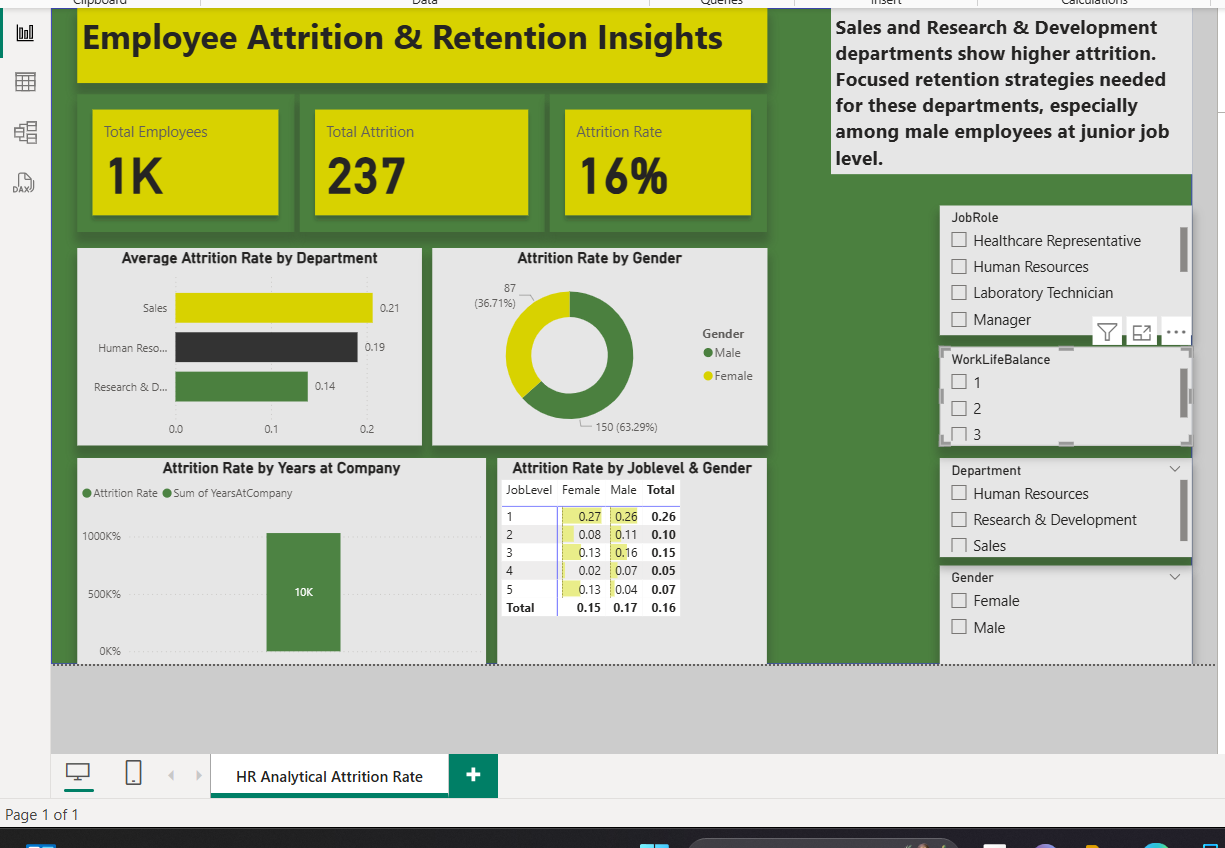

Layout of this report page (visuals, bound fields, positions):
{"tool":"powerbi","page":{"name":"HR Analytical Attrition Rate","canvas":[1280,720],"ordinal":0},"visuals":[{"type":"shape","box":[0,0,1252.8,720.4],"z":0},{"type":"textbox","box":[28.8,0,757.5,82.3],"z":1000},{"type":"cardVisual","fields":{"Data":["hranalytics.Total Employees"]},"box":[28.8,94.7,238.8,150.9],"z":2000},{"type":"slicer","fields":{"Values":["hranalytics.Gender"]},"box":[975.6,612,277.2,108.4],"z":3000},{"type":"slicer","fields":{"Values":["hranalytics.Department"]},"box":[975.6,494,277.2,108.4],"z":4000},{"type":"slicer","fields":{"Values":["hranalytics.WorkLifeBalance"]},"box":[975.6,371.9,277.2,108.4],"z":5000},{"type":"slicer","fields":{"Values":["hranalytics.JobRole"]},"box":[975.6,216.8,277.2,142.7],"z":6000},{"type":"cardVisual","fields":{"Data":["hranalytics.Total Attrition"]},"box":[273.1,94.7,269,150.9],"z":7000},{"type":"cardVisual","fields":{"Data":["hranalytics.Attrition Rate"]},"box":[547.5,94.7,238.8,150.9],"z":8000},{"type":"barChart","title":" Average Attrition Rate by Department","fields":{"Y":["Avg(hranalytics.Attrition Flag)"],"Category":["hranalytics.Department"]},"box":[28.8,263.5,378.7,216.8],"z":9000},{"type":"donutChart","title":" Attrition Rate by Gender","fields":{"Category":["hranalytics.Gender"],"Y":["Sum(hranalytics.Attrition Flag)"]},"box":[418.5,263.5,367.8,216.8],"z":10000},{"type":"pivotTable","title":"Attrition Rate by Joblevel & Gender","fields":{"Rows":["hranalytics.JobLevel"],"Columns":["hranalytics.Gender"],"Values":["Avg(hranalytics.Attrition Flag)"]},"box":[489.9,494,296.4,226.4],"z":11000},{"type":"columnChart","title":"Attrition Rate by Years at Company","fields":{"Y":["hranalytics.Attrition Rate","Sum(hranalytics.YearsAtCompany)"]},"box":[28.8,494,448.7,226.4],"z":12000},{"type":"textbox","box":[856.3,0,396.6,182.5],"z":13000}]}

Visuals, with their boxes in screenshot pixels (x1, y1, x2, y2):
shape: 48, 169, 1188, 825
textbox: 74, 169, 764, 244
cardVisual - hranalytics.Total Employees: 74, 255, 291, 393
slicer - hranalytics.Gender: 936, 726, 1188, 825
slicer - hranalytics.Department: 936, 619, 1188, 717
slicer - hranalytics.WorkLifeBalance: 936, 508, 1188, 606
slicer - hranalytics.JobRole: 936, 366, 1188, 496
cardVisual - hranalytics.Total Attrition: 296, 255, 541, 393
cardVisual - hranalytics.Attrition Rate: 546, 255, 764, 393
" Average Attrition Rate by Department" barChart: 74, 409, 419, 606
" Attrition Rate by Gender" donutChart: 429, 409, 764, 606
"Attrition Rate by Joblevel & Gender" pivotTable: 494, 619, 764, 825
"Attrition Rate by Years at Company" columnChart: 74, 619, 483, 825
textbox: 827, 169, 1188, 335
